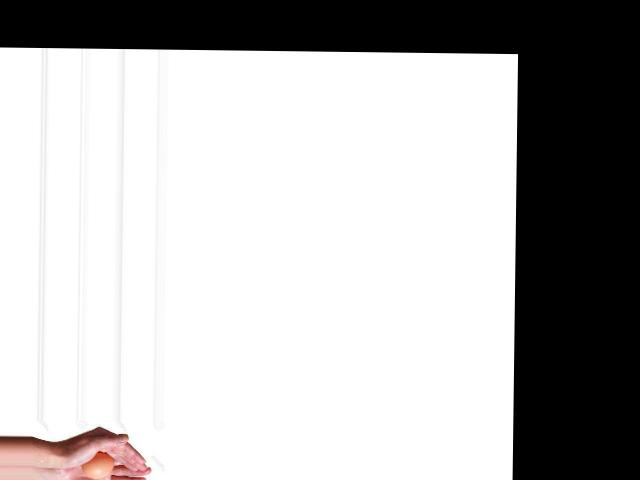egg: (83, 452, 114, 477)
